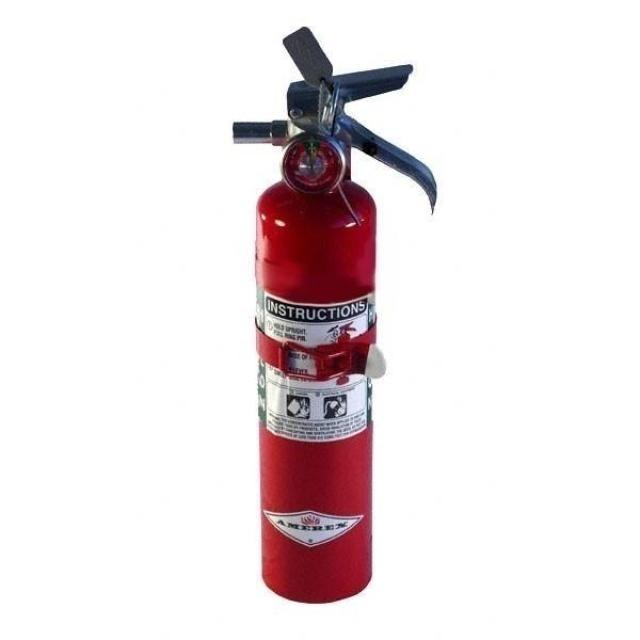fire_extinguisher: (228, 21, 436, 604)
